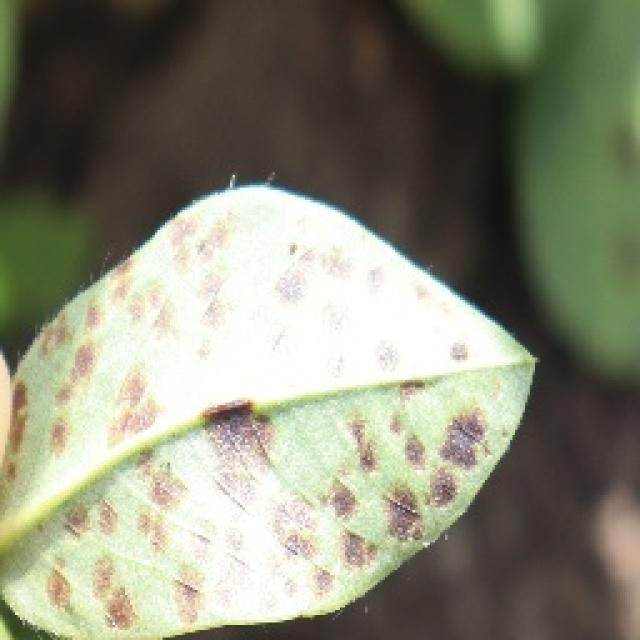Whitefly: (0, 174, 516, 627)
